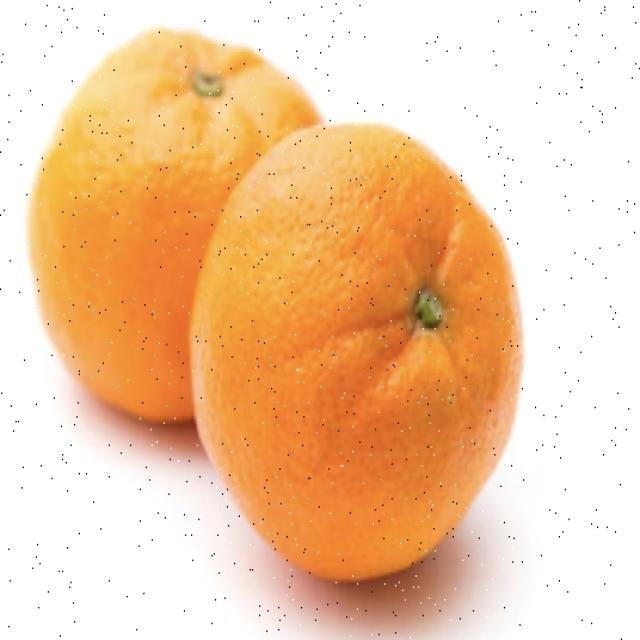orange: (191, 113, 538, 584), (27, 26, 314, 432)
